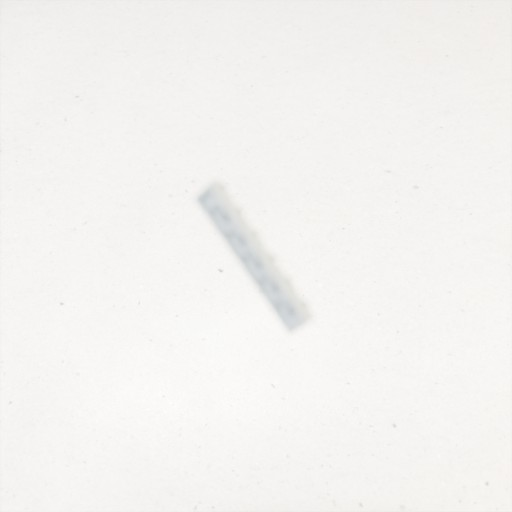lego: (193, 177, 317, 336)
